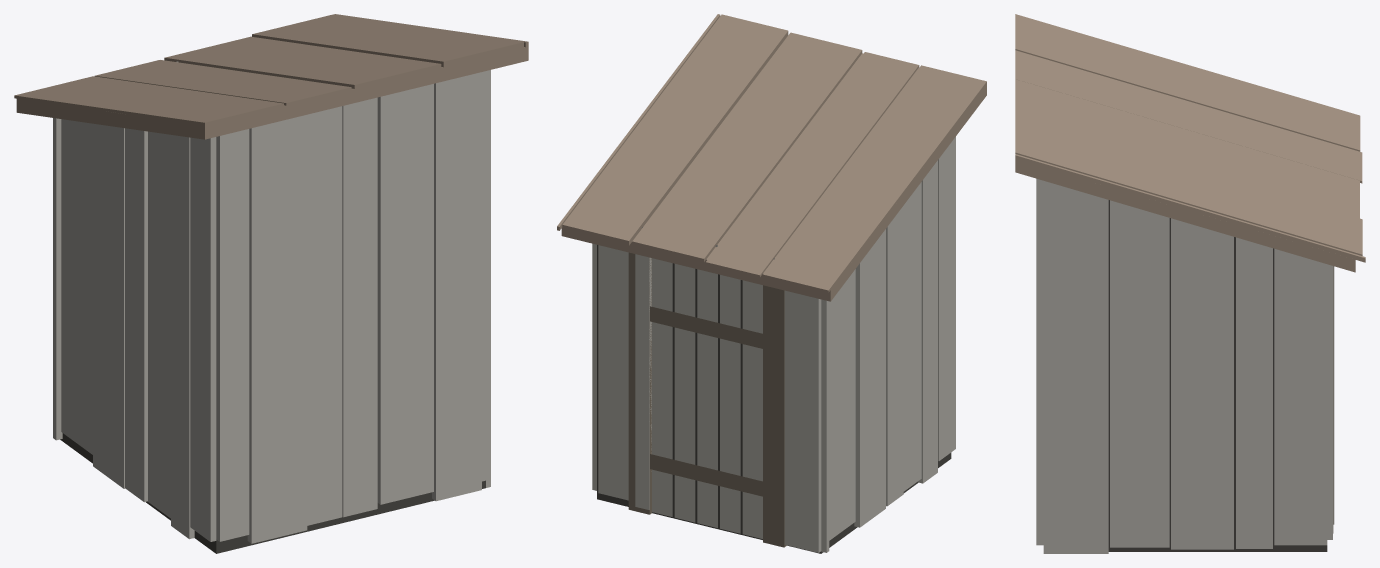
The model's file is recon_1835_blk_randolph_clark_a3_08__inferred_1835.glb.
3 renders of one model, left to right at view 1: azimuth 30°, elevation 25°; view 2: azimuth 150°, elevation 25°; view 3: azimuth 270°, elevation 25°, orthographic. The views are drawn at different scales.
Visible parts, largest first — view 1: recon_1835_blk_randolph_clark_a3_08__inferred_1835; view 2: recon_1835_blk_randolph_clark_a3_08__inferred_1835; view 3: recon_1835_blk_randolph_clark_a3_08__inferred_1835.
Part boxes in pixels (<box>): recon_1835_blk_randolph_clark_a3_08__inferred_1835: <box>14,14,528,553</box>; recon_1835_blk_randolph_clark_a3_08__inferred_1835: <box>557,14,986,553</box>; recon_1835_blk_randolph_clark_a3_08__inferred_1835: <box>1015,14,1365,553</box>.
Bounding box in the file's own units: 2.04 × 2.72 × 2.11.
